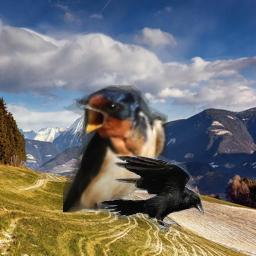Crow: (97, 154, 205, 232)
Swallow: (63, 85, 168, 212)
